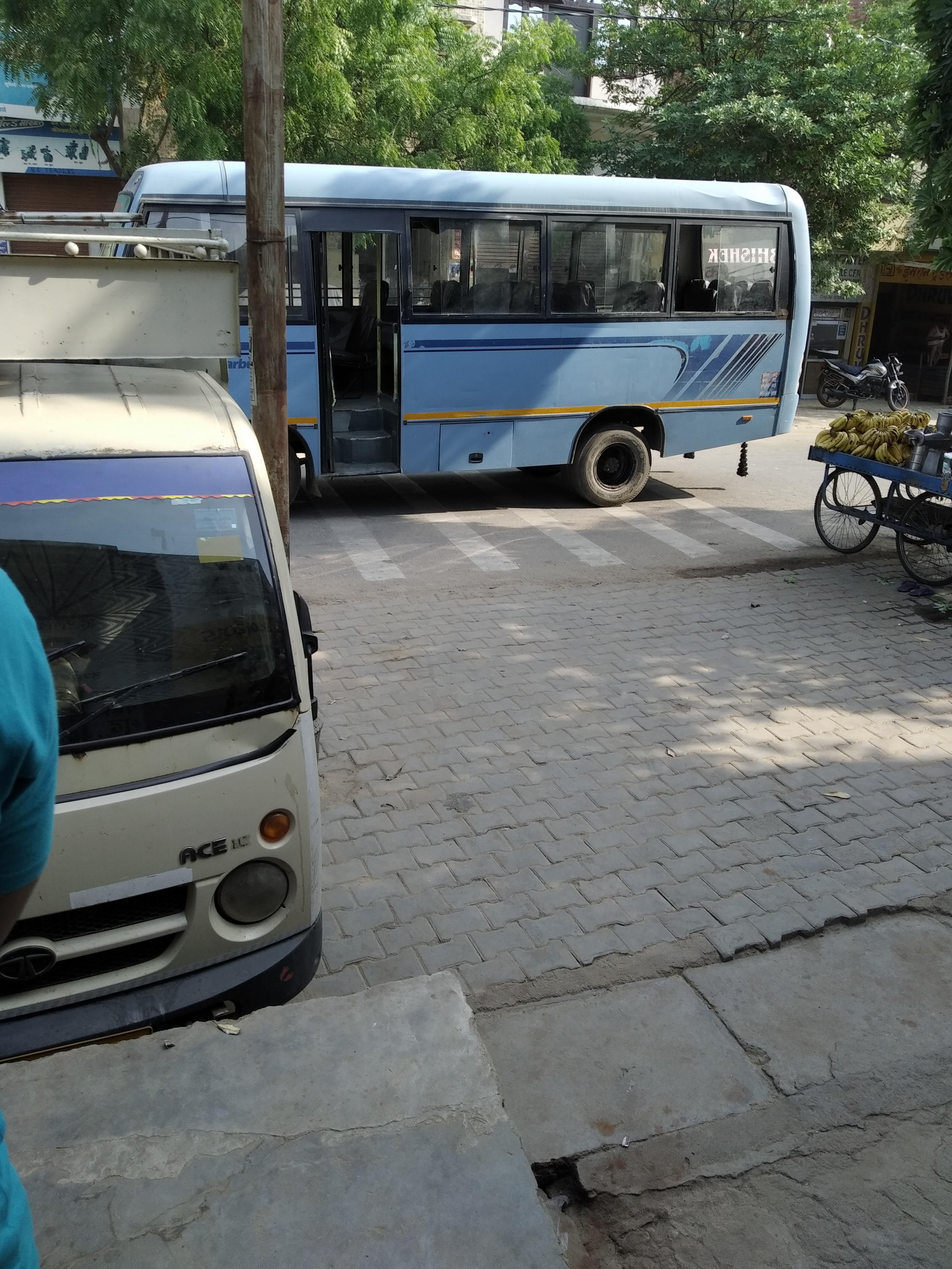non-ambulance: (77, 94, 853, 511)
